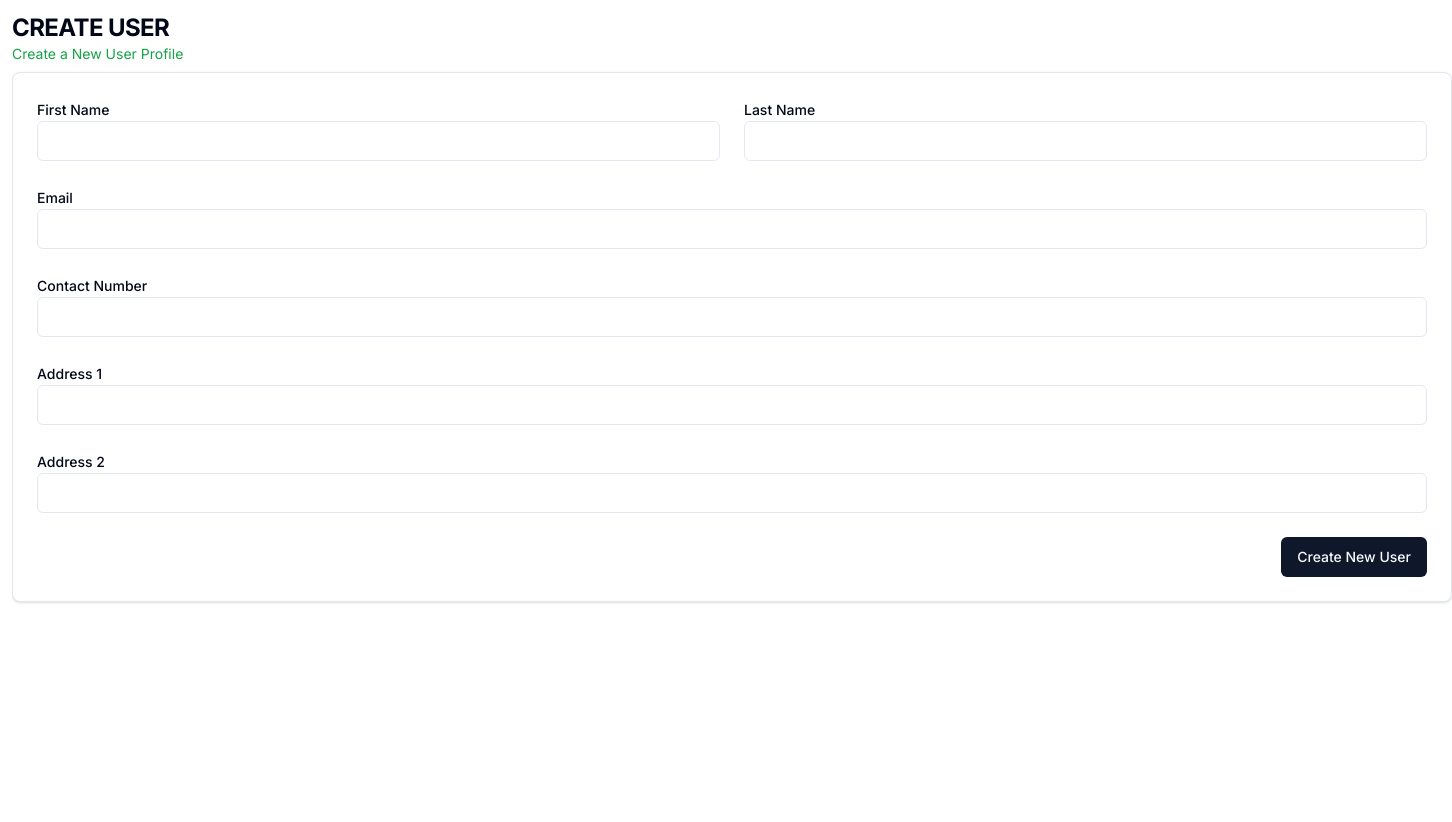
Test: FormPage › shows validation errors for empty required fields
Click the button "Create New User".
click(1354, 557)  # box [1281,537,1427,577]
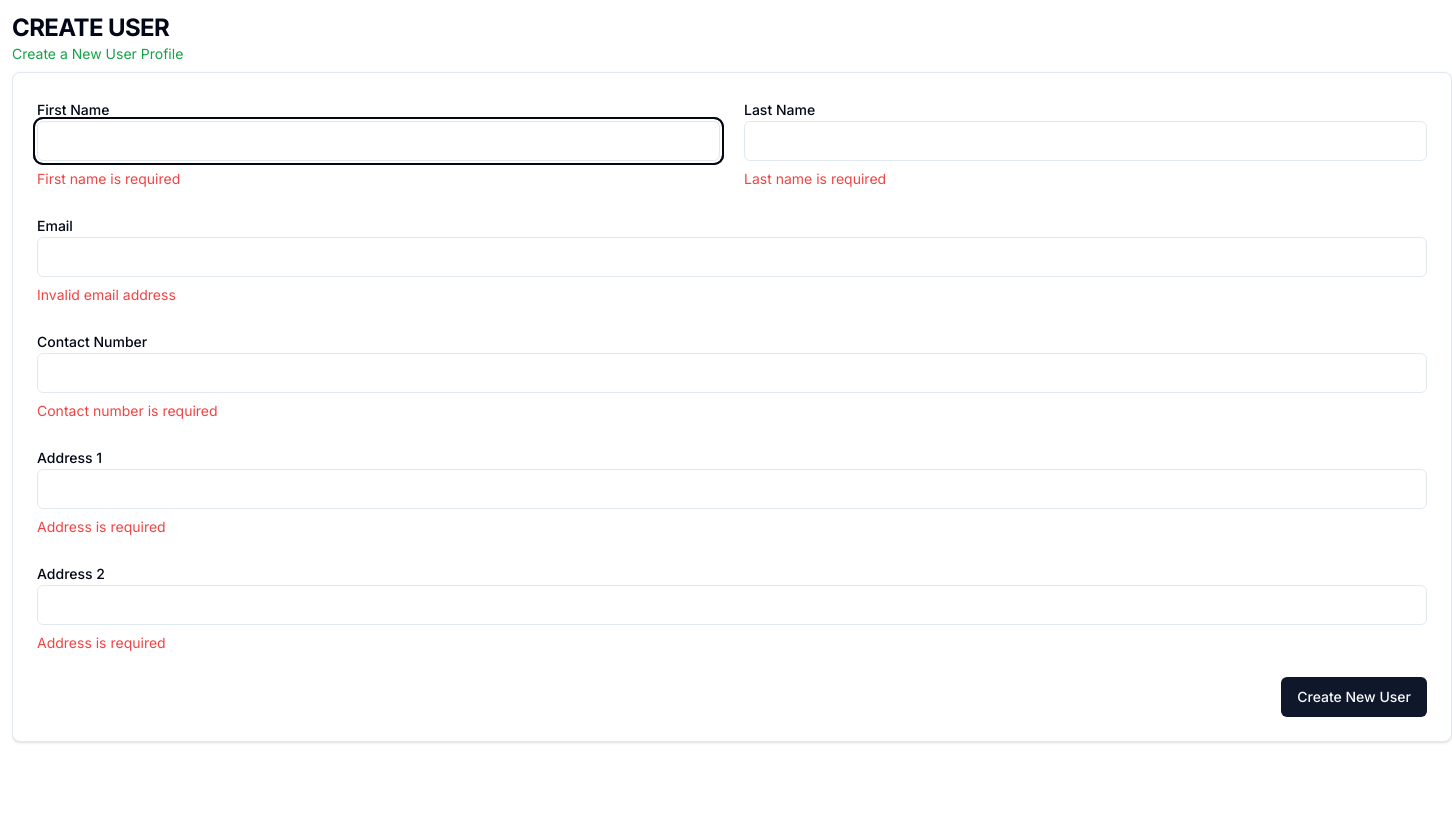
Expected: the text "First name is required" is shown, [37,170,180,187]
Expected: the text "Last name is required" is shown, [744,170,886,187]
Expected: the text "Invalid email address" is shown, [37,286,176,303]
